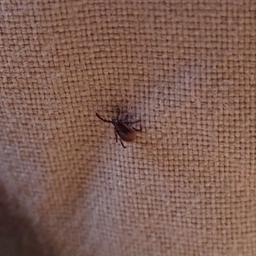Ixodes scapularis: (95, 106, 144, 147)
